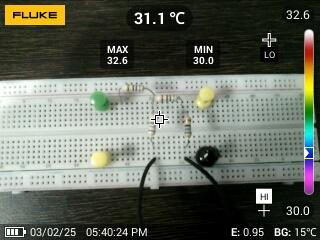resistor: (180, 114, 196, 142), (120, 82, 148, 96), (153, 93, 182, 105), (147, 114, 158, 139)
